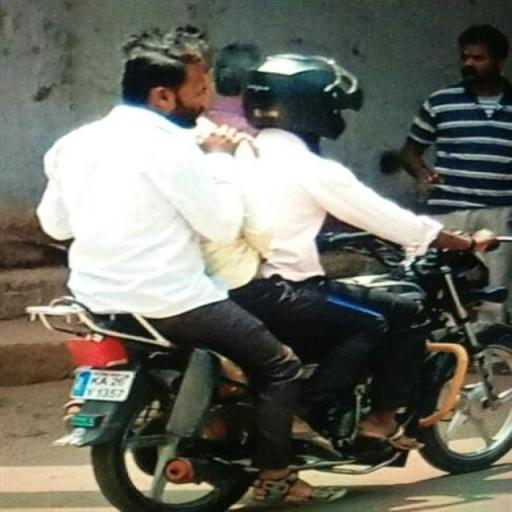tripple riding: (30, 32, 496, 290)
